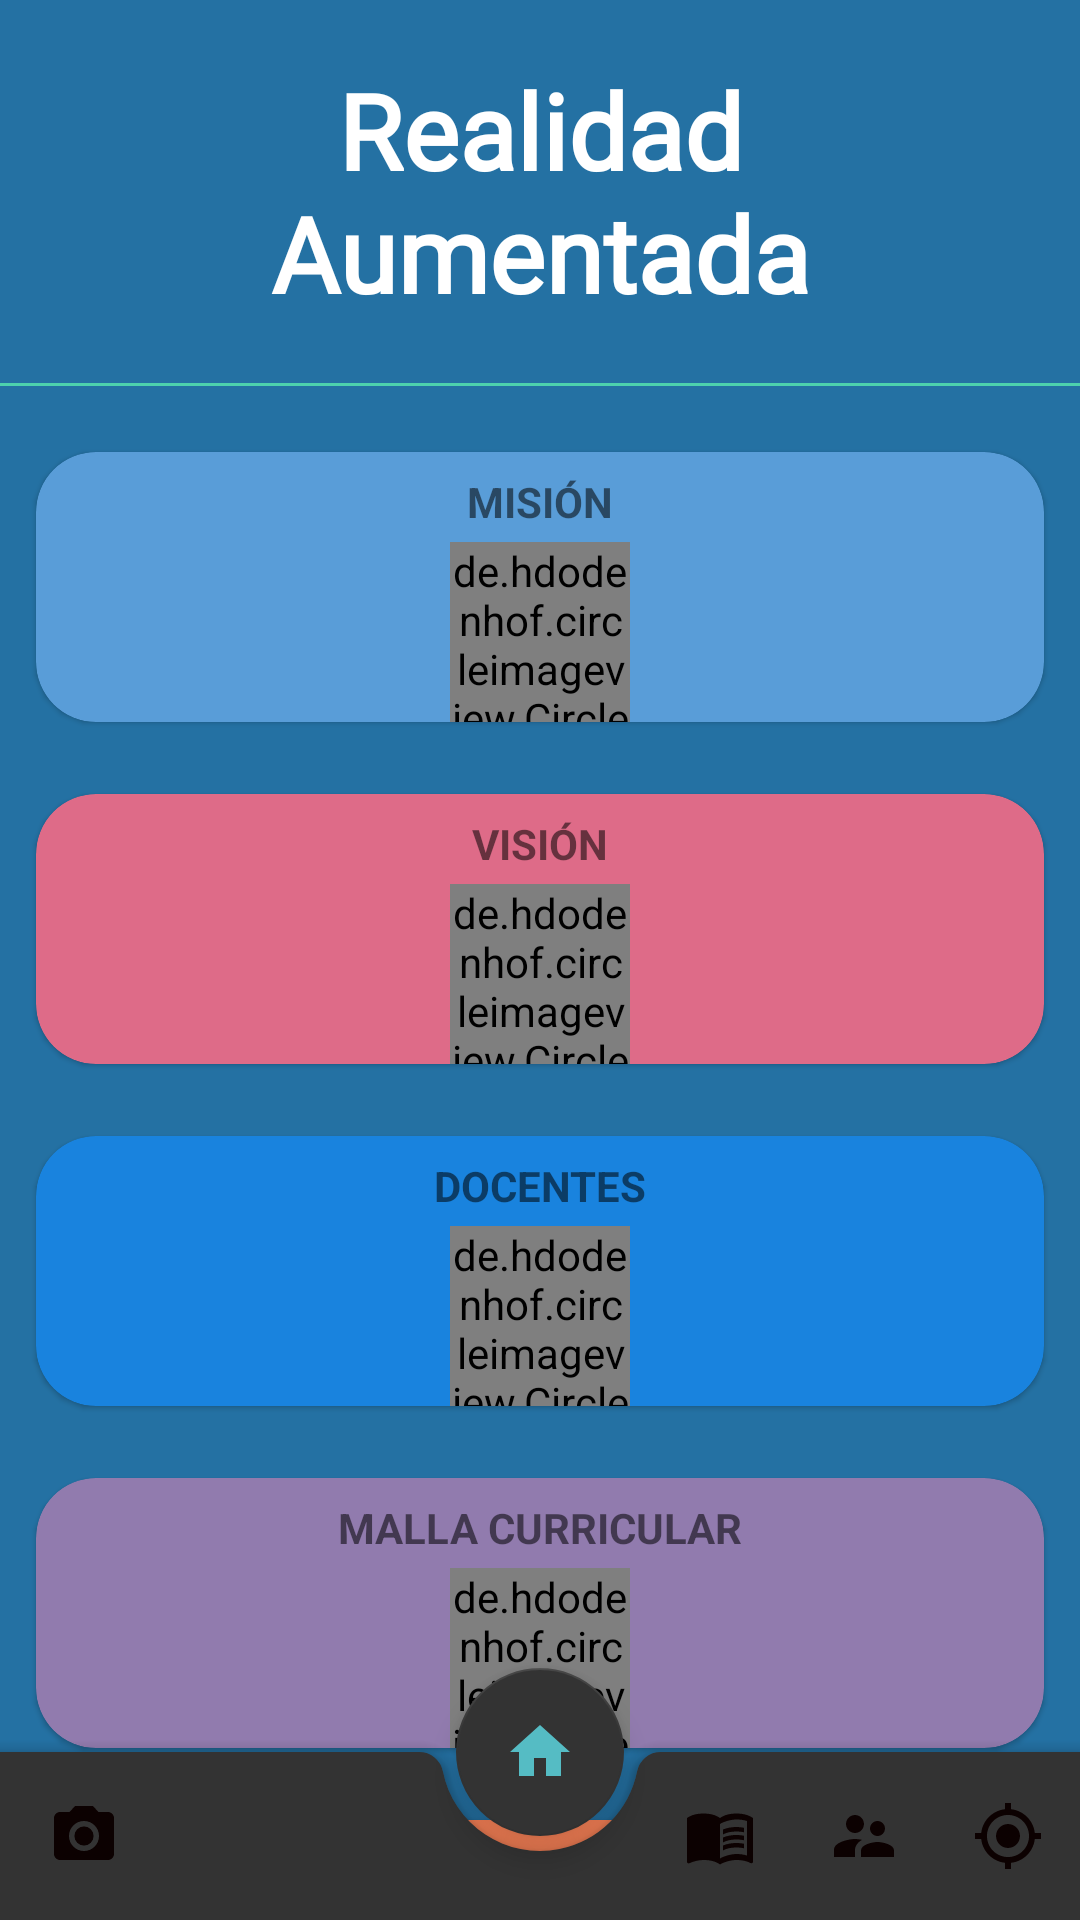

Icons on this 1080*1920 Android screen, each with the point to tap as [x,y]:
home: [540,1752]
